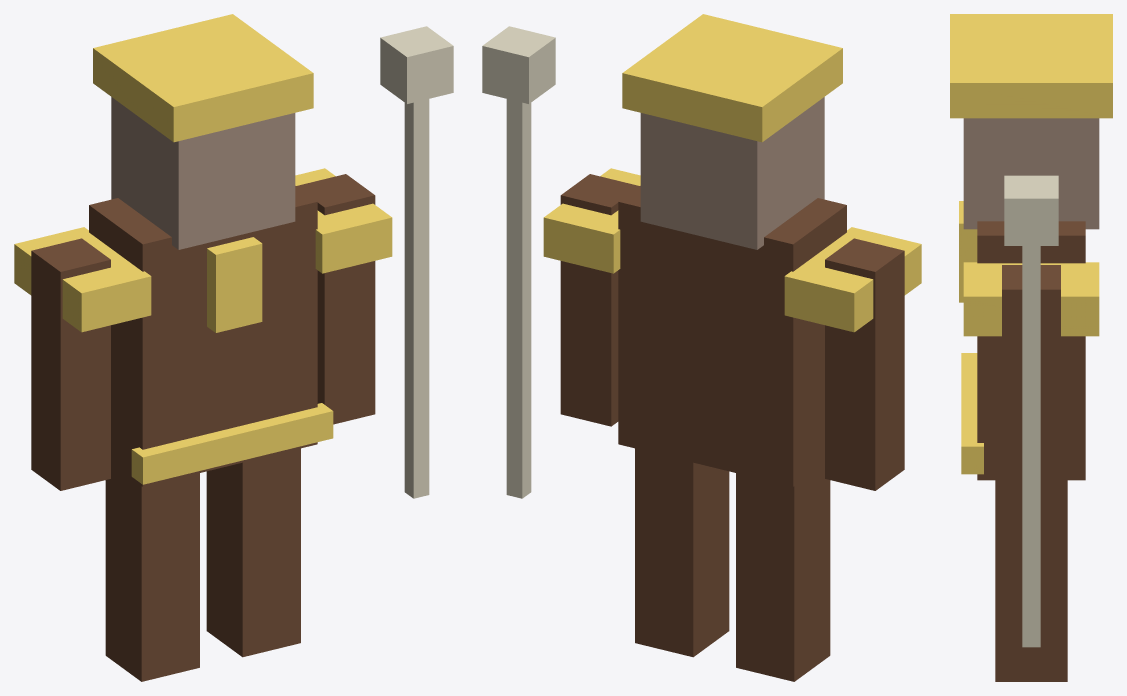
File: 16_makoa_starfall_courier_of_crater.glb
3 renders of one model, left to right at view 1: azimuth 30°, elevation 25°; view 2: azimuth 150°, elevation 25°; view 3: azimuth 270°, elevation 25°, orthographic.
Parts seen in each view (by area): view 1: Makoa Starfall, Courier of Crater; view 2: Makoa Starfall, Courier of Crater; view 3: Makoa Starfall, Courier of Crater.
Part boxes in pixels (x1,y1,x2,y2): Makoa Starfall, Courier of Crater: (14, 14, 453, 681); Makoa Starfall, Courier of Crater: (482, 14, 921, 681); Makoa Starfall, Courier of Crater: (950, 14, 1112, 681).
Bounding box in the file's own units: 1.03 × 1.47 × 0.3662.
